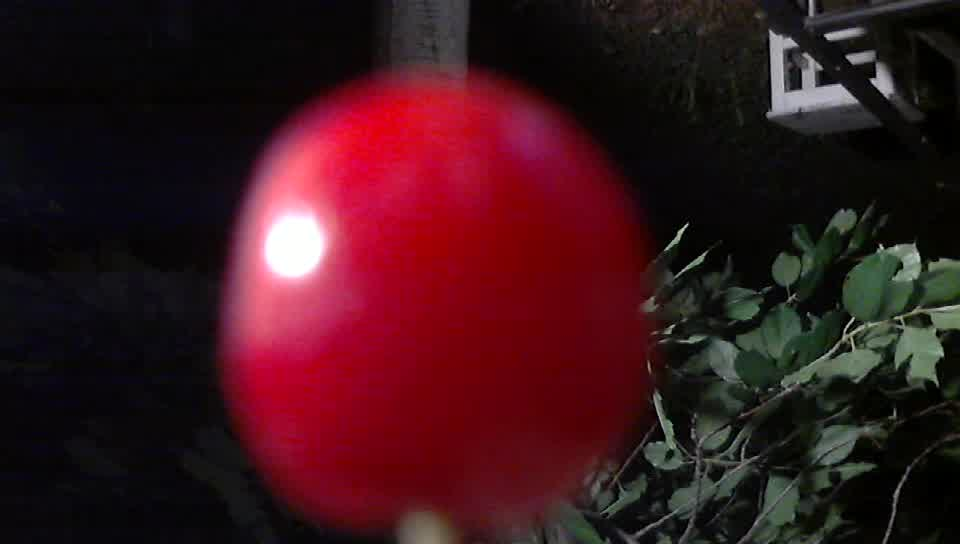Cherry: (192, 65, 703, 544)
